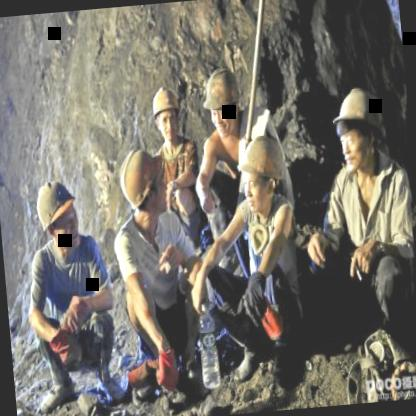helmet: (330, 78, 384, 182), (232, 133, 290, 217), (36, 178, 90, 260), (112, 146, 167, 224), (202, 64, 243, 140), (146, 82, 180, 146)
